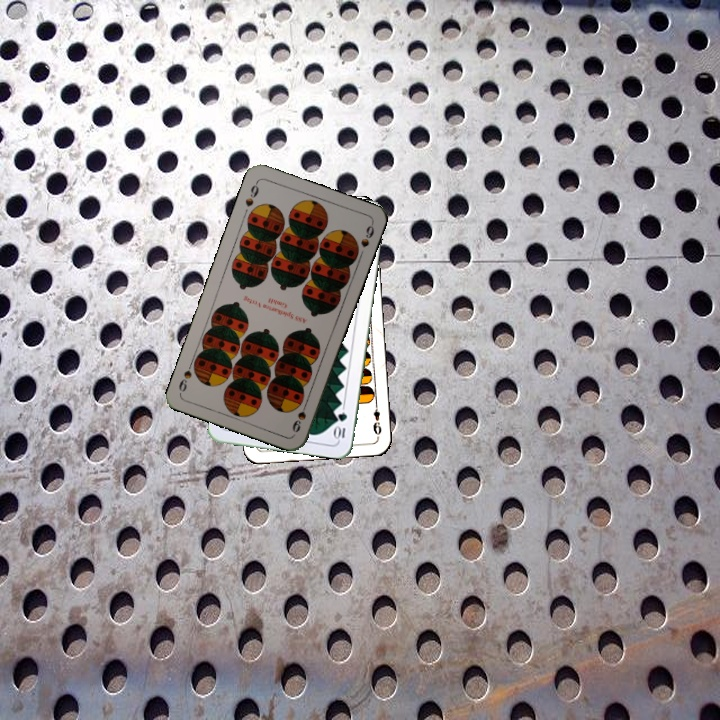E9: (369, 399, 384, 437)
G10: (331, 408, 350, 442)
S9: (288, 396, 310, 435), (241, 178, 261, 209)
